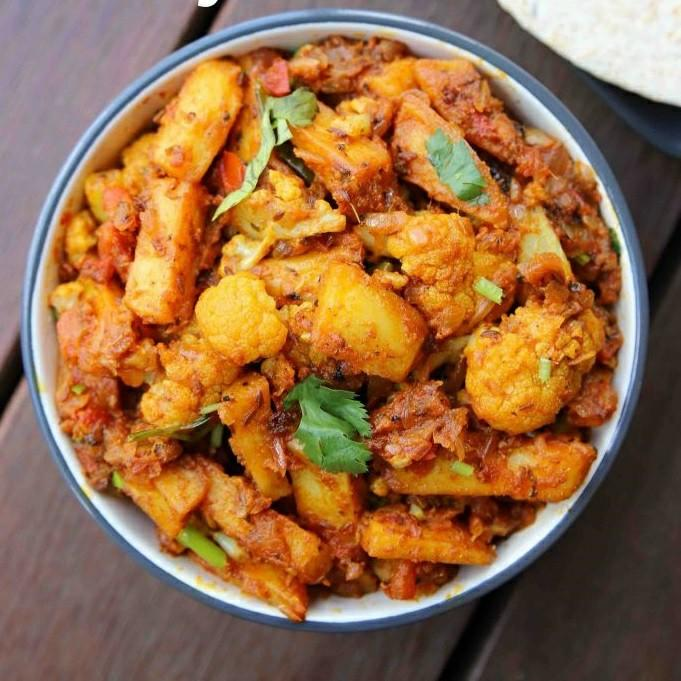AlooGobi: (45, 32, 622, 625)
